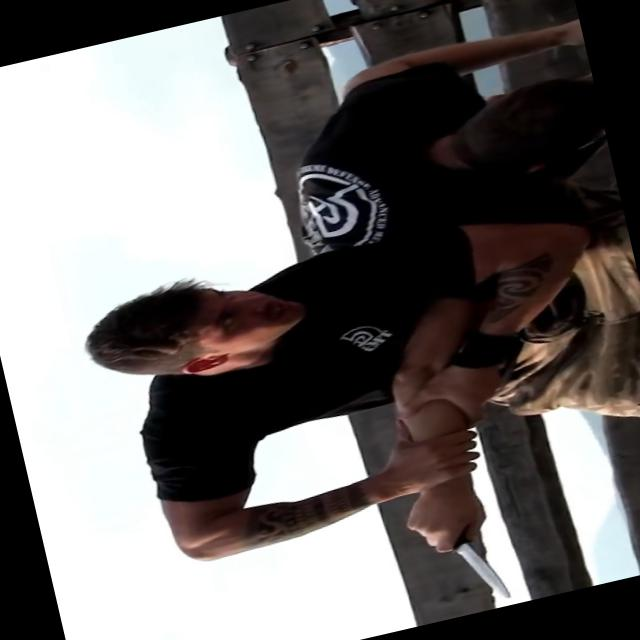knife: (398, 496, 520, 624)
